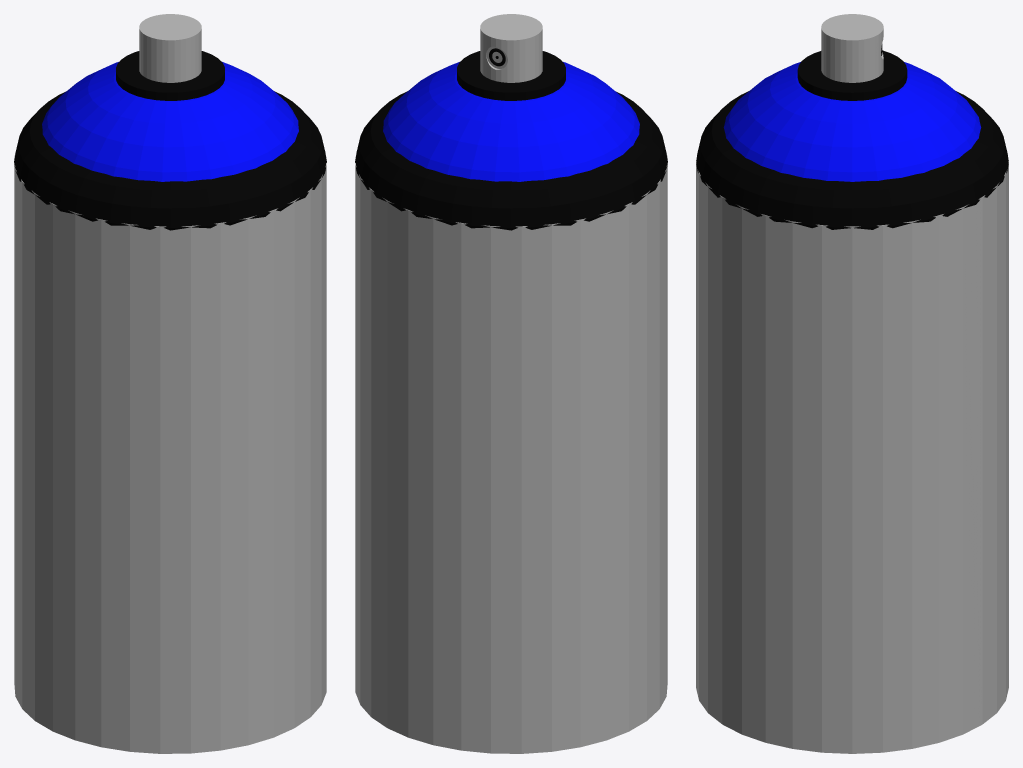
Rendered from spuitbus_blauw.gltf.
3 views of the same model, side by side, from view 1: azimuth 30°, elevation 25°; view 2: azimuth 150°, elevation 25°; view 3: azimuth 270°, elevation 25° (orthographic).
Parts seen in each view (by area): view 1: Cylinder, Sphere, Torus, Cylinder.003, Cylinder.002; view 2: Cylinder, Sphere, Torus, Cylinder.003, Cylinder.002; view 3: Cylinder, Sphere, Torus, Cylinder.003, Cylinder.002.
Boxes of the visible parts, left/top/right/bottom form: Cylinder: left=14, top=151, right=326, bottom=753; Sphere: left=42, top=62, right=298, bottom=181; Torus: left=14, top=91, right=326, bottom=230; Cylinder.003: left=139, top=14, right=201, bottom=82; Cylinder.002: left=116, top=51, right=224, bottom=100; Cylinder: left=355, top=151, right=667, bottom=753; Sphere: left=383, top=62, right=639, bottom=181; Torus: left=355, top=91, right=667, bottom=230; Cylinder.003: left=480, top=14, right=542, bottom=82; Cylinder.002: left=457, top=51, right=565, bottom=100; Cylinder: left=696, top=159, right=1008, bottom=753; Sphere: left=723, top=62, right=981, bottom=181; Torus: left=696, top=91, right=1008, bottom=229; Cylinder.003: left=821, top=14, right=883, bottom=82; Cylinder.002: left=797, top=50, right=907, bottom=100.
Bounding box in the file's own units: 2 × 4.66 × 2.
